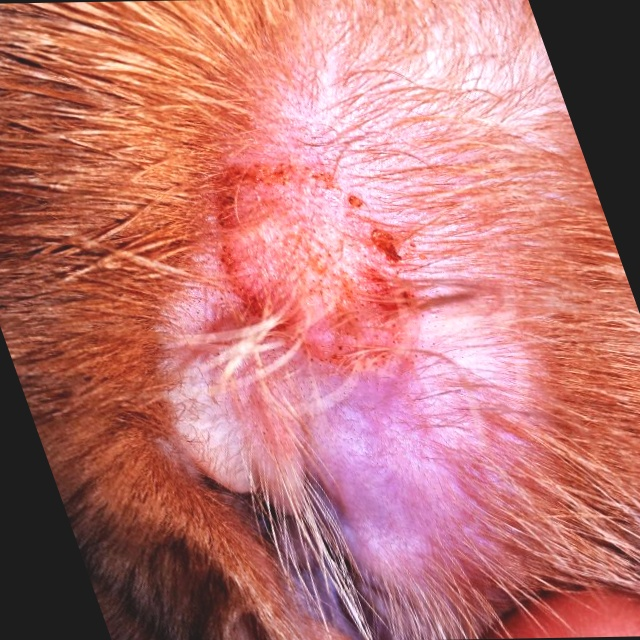ringworm: (185, 158, 438, 381)
